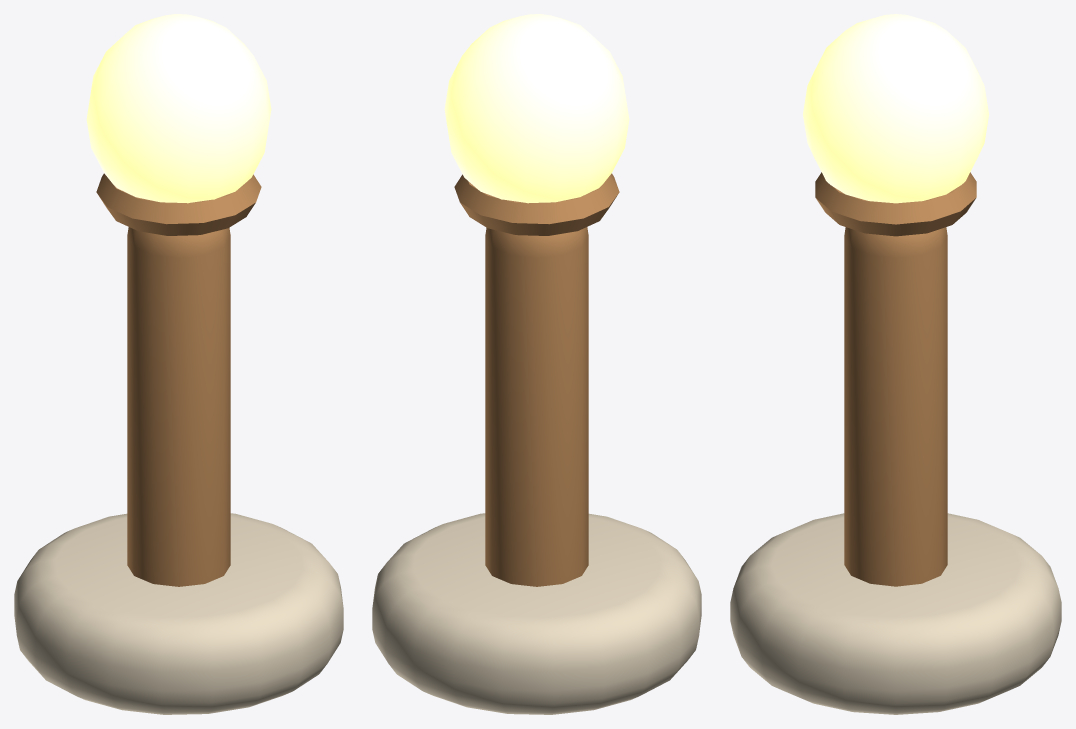
Rendered from goal_corner.glb.
3 renders of one model, left to right at view 1: azimuth 30°, elevation 25°; view 2: azimuth 150°, elevation 25°; view 3: azimuth 270°, elevation 25°, orthographic.
Parts seen in each view (by area): view 1: GoalCorner; view 2: GoalCorner; view 3: GoalCorner.
Boxes of the visible parts, bbox=[...] form: GoalCorner: bbox=[14, 14, 343, 714]; GoalCorner: bbox=[372, 14, 701, 714]; GoalCorner: bbox=[730, 14, 1061, 714].
Size of the model in its own units: 0.32 by 0.679 by 0.32.
